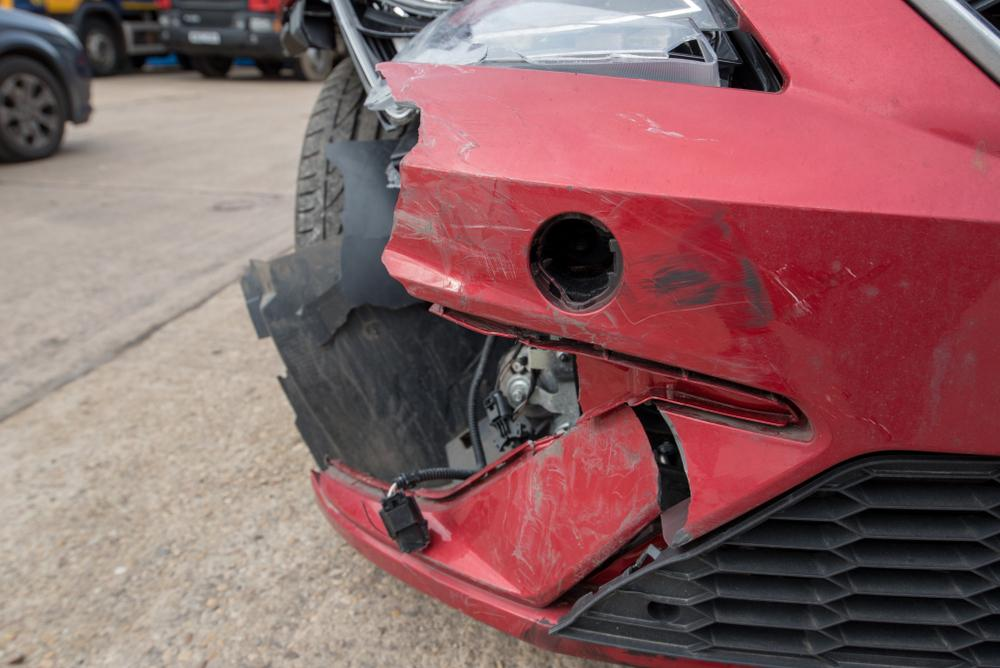crack: (630, 406, 692, 546)
lamp broken: (345, 0, 784, 92)
scratch: (607, 104, 784, 379), (498, 427, 657, 589), (391, 110, 527, 276)
